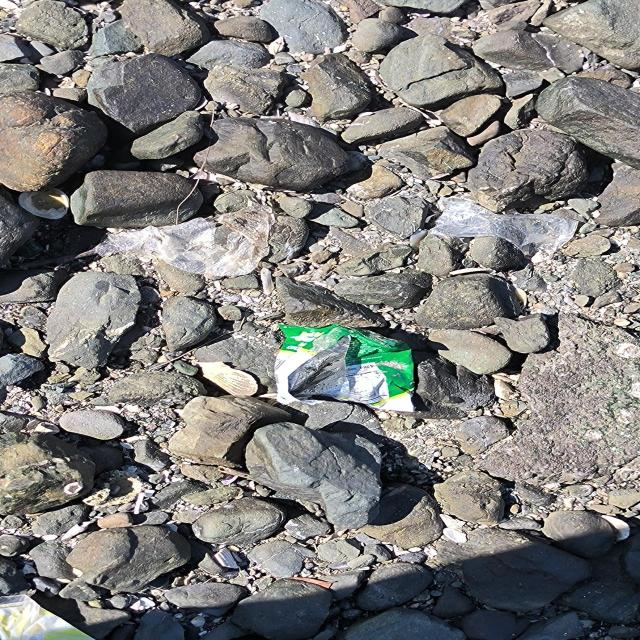litter: (274, 323, 416, 413)
